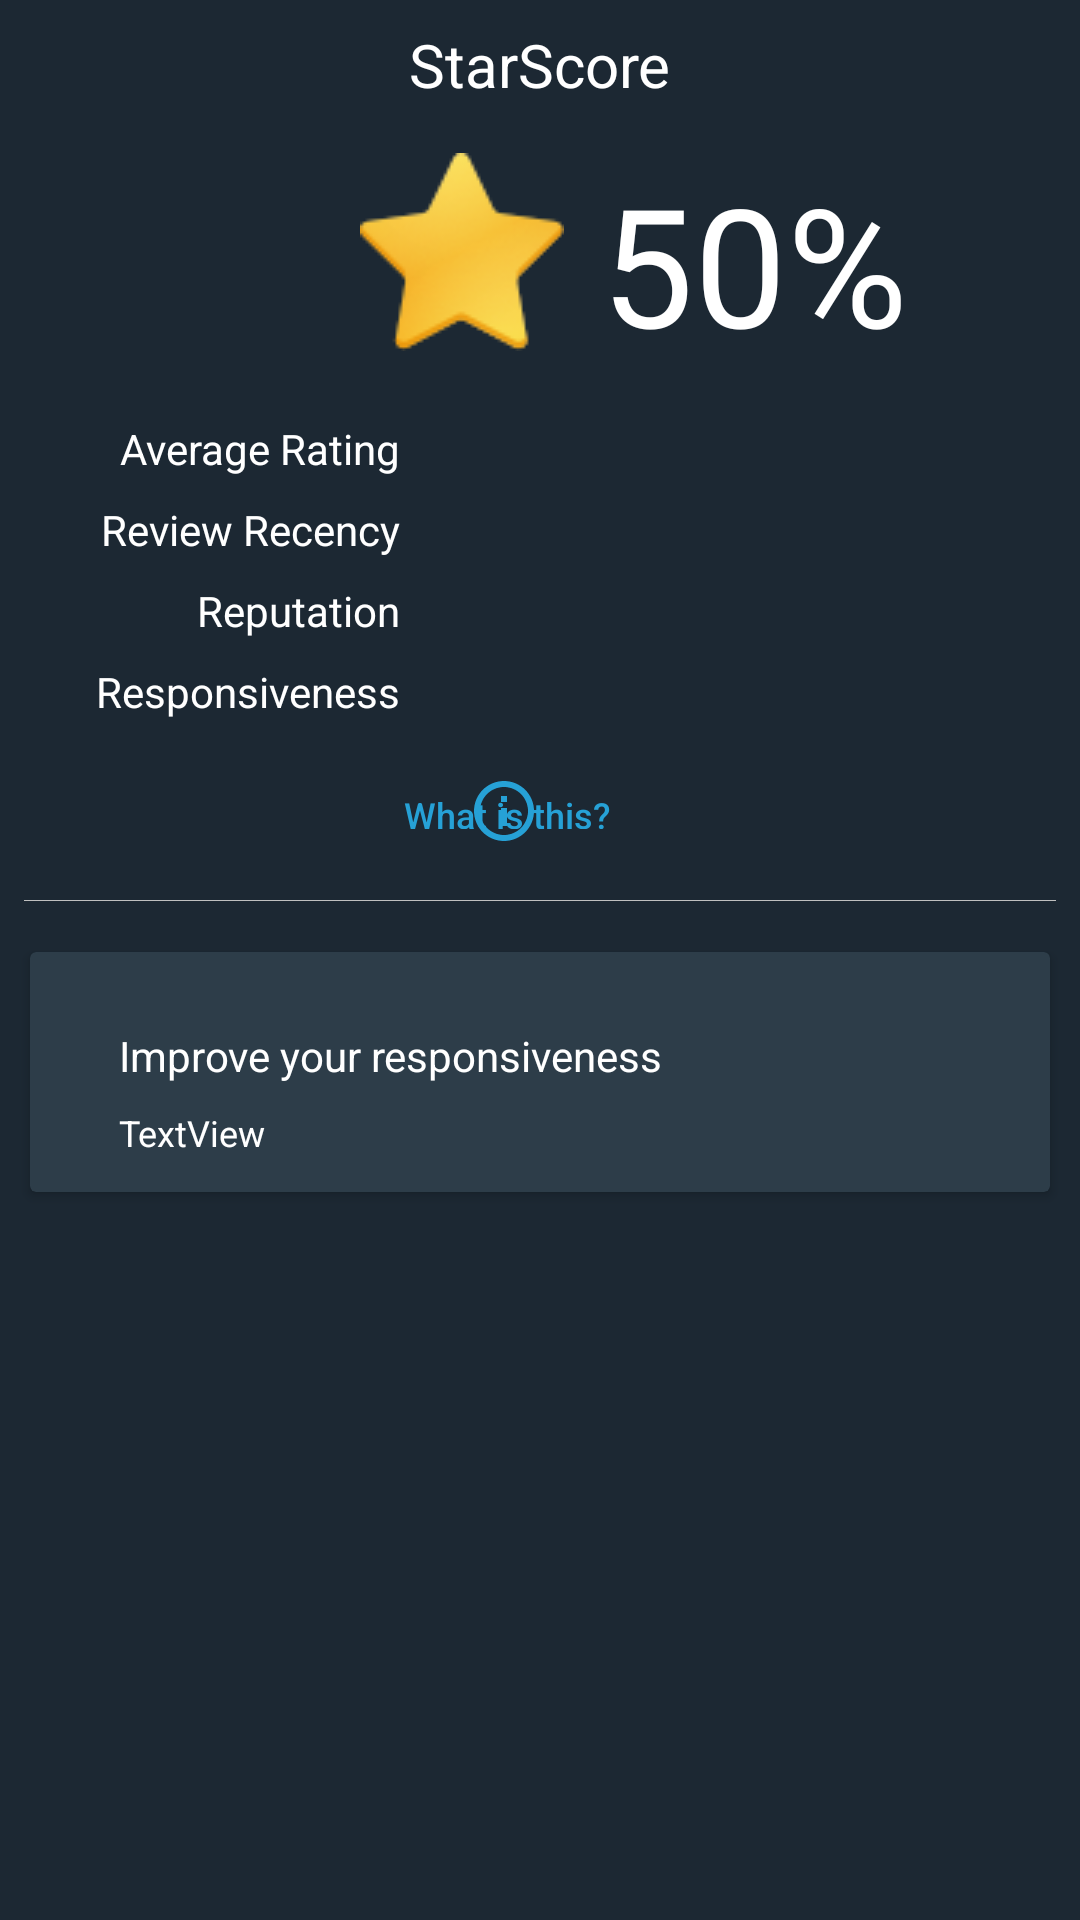

Locate icon controls on the screen. Image size 1080 × 1920, boxes as BBox(x1, y1, x2, y2).
star gold lg: BBox(360, 153, 564, 351)
